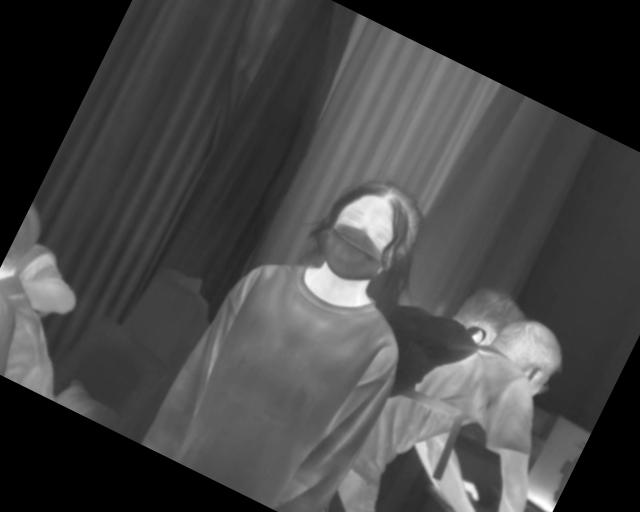face: (285, 271, 391, 396), (181, 237, 276, 354)
